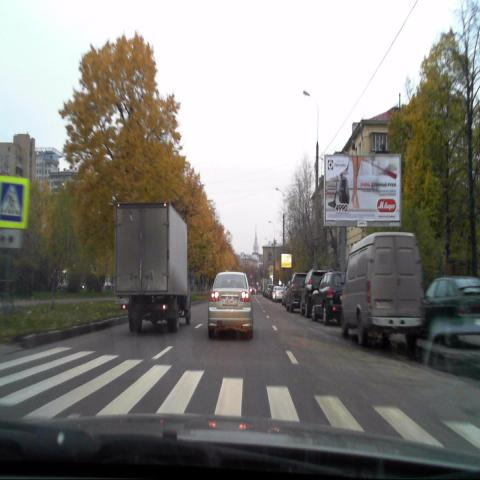5_19_1: (0, 177, 28, 229)
